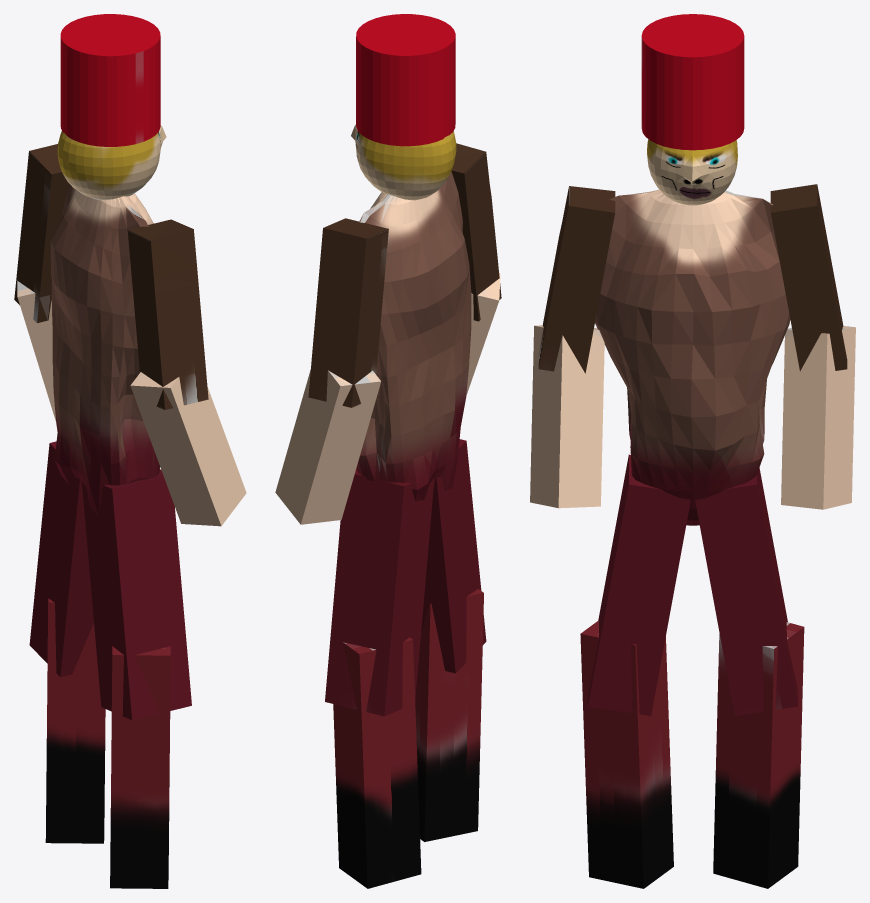
File: guy.dae
3 views of the same model, side by side, from view 1: azimuth 30°, elevation 25°; view 2: azimuth 150°, elevation 25°; view 3: azimuth 270°, elevation 25° (orthographic). The views are drawn at different scales.
Visible parts, largest first — view 1: Body, UpperLegLeft, LowerLegLeft, Cylinder, UpperArmLeft, LowerLegRight, LowerArmLeft, UpperLegRight, UpperArmRight, Head, LowerArmRight; view 2: Body, UpperLegRight, LowerLegRight, LowerLegLeft, Cylinder, UpperArmRight, LowerArmRight, UpperLegLeft, Head, UpperArmLeft, LowerArmLeft; view 3: Body, LowerLegRight, LowerLegLeft, UpperLegLeft, UpperLegRight, Cylinder, LowerArmRight, LowerArmLeft, UpperArmLeft, UpperArmRight, Head.
Part boxes in pixels (<box>): Body: <box>50,184,159,515</box>; UpperLegLeft: <box>82,469,191,720</box>; LowerLegLeft: <box>110,646,170,888</box>; Cylinder: <box>60,14,160,146</box>; UpperArmLeft: <box>127,219,208,409</box>; LowerLegRight: <box>45,598,105,843</box>; LowerArmLeft: <box>130,372,246,526</box>; UpperLegRight: <box>29,441,93,676</box>; UpperArmRight: <box>14,144,69,322</box>; Head: <box>57,125,166,199</box>; LowerArmRight: <box>17,281,55,420</box>; Body: <box>356,172,471,501</box>; UpperLegRight: <box>325,469,434,716</box>; LowerLegRight: <box>333,637,421,888</box>; LowerLegLeft: <box>415,589,483,841</box>; Cylinder: <box>356,14,455,146</box>; UpperArmRight: <box>308,218,388,407</box>; LowerArmRight: <box>275,370,381,524</box>; UpperLegLeft: <box>421,439,486,673</box>; Head: <box>351,124,456,200</box>; UpperArmLeft: <box>451,143,501,321</box>; LowerArmLeft: <box>466,272,500,395</box>; Body: <box>595,189,790,525</box>; LowerLegRight: <box>713,622,804,888</box>; LowerLegLeft: <box>580,620,673,888</box>; UpperLegLeft: <box>588,454,690,715</box>; UpperLegRight: <box>695,467,797,715</box>; Cylinder: <box>641,14,744,150</box>; LowerArmRight: <box>781,326,855,509</box>; LowerArmLeft: <box>530,325,604,508</box>; UpperArmLeft: <box>538,186,615,373</box>; UpperArmRight: <box>770,184,847,371</box>; Head: <box>647,139,737,205</box>.
Size of the model in its own units: 0.1857 by 0.4331 by 1.23.
11 materials, 11 textured.
